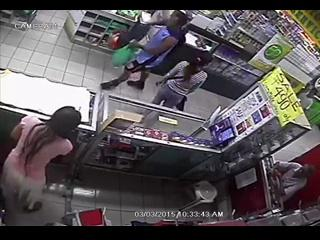Normal: (0, 106, 83, 223), (103, 10, 192, 91)
